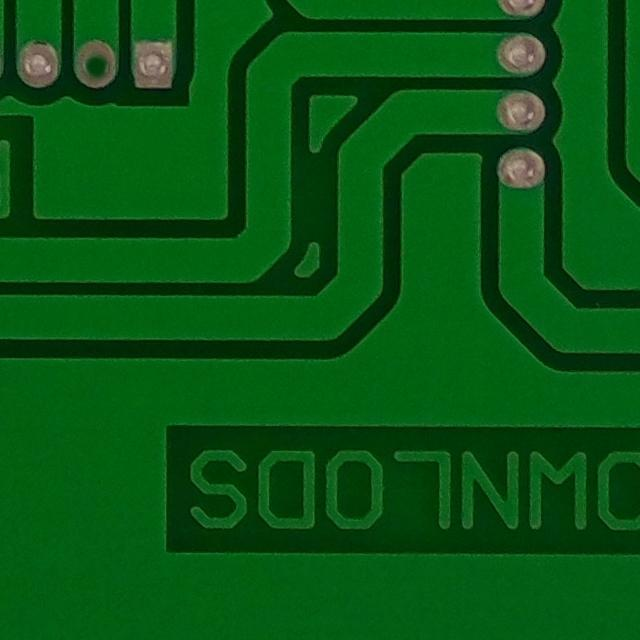missing_hole: (68, 33, 128, 95)
